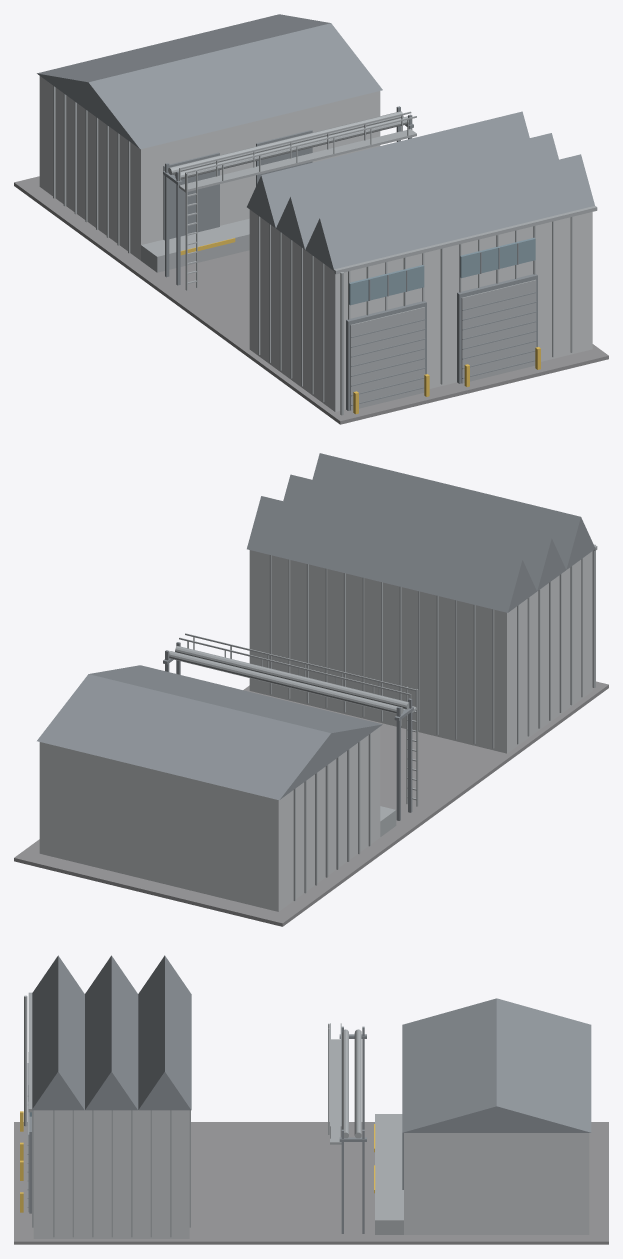
Rendered from industrial_2x4_b.glb.
3 views of the same model, one above another, from view 1: azimuth 30°, elevation 25°; view 2: azimuth 150°, elevation 25°; view 3: azimuth 270°, elevation 25° (orthographic). The views are drawn at different scales.
Parts seen in each view (by area): view 1: industrial_2x4_b_yard; view 2: industrial_2x4_b_yard; view 3: industrial_2x4_b_yard.
Part boxes in pixels (left/top/right/bottom): industrial_2x4_b_yard: left=14, top=14, right=608, bottom=424; industrial_2x4_b_yard: left=14, top=453, right=608, bottom=926; industrial_2x4_b_yard: left=14, top=955, right=608, bottom=1244.
Size of the model in its own units: 14.5 by 9.7 by 30.5.
